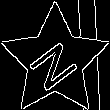N_NE: (25, 30, 85, 91)
